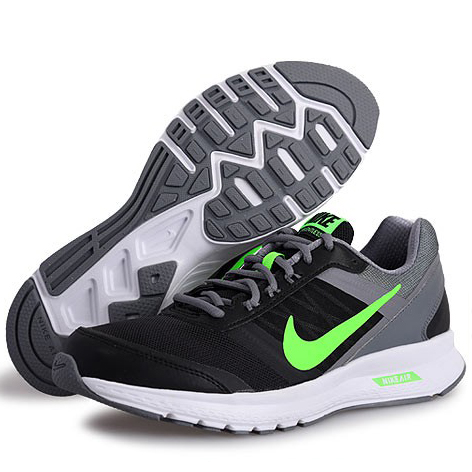Nike: (280, 280, 408, 375)
